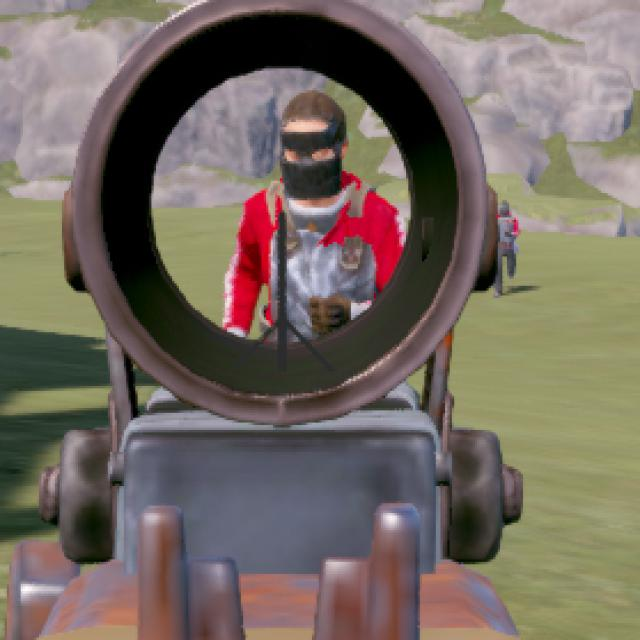Player: (224, 96, 392, 285)
